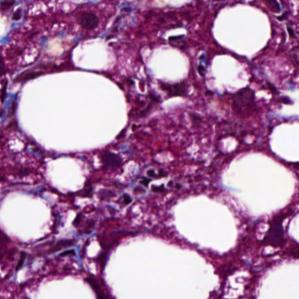inflammation: (135, 164, 175, 199)
